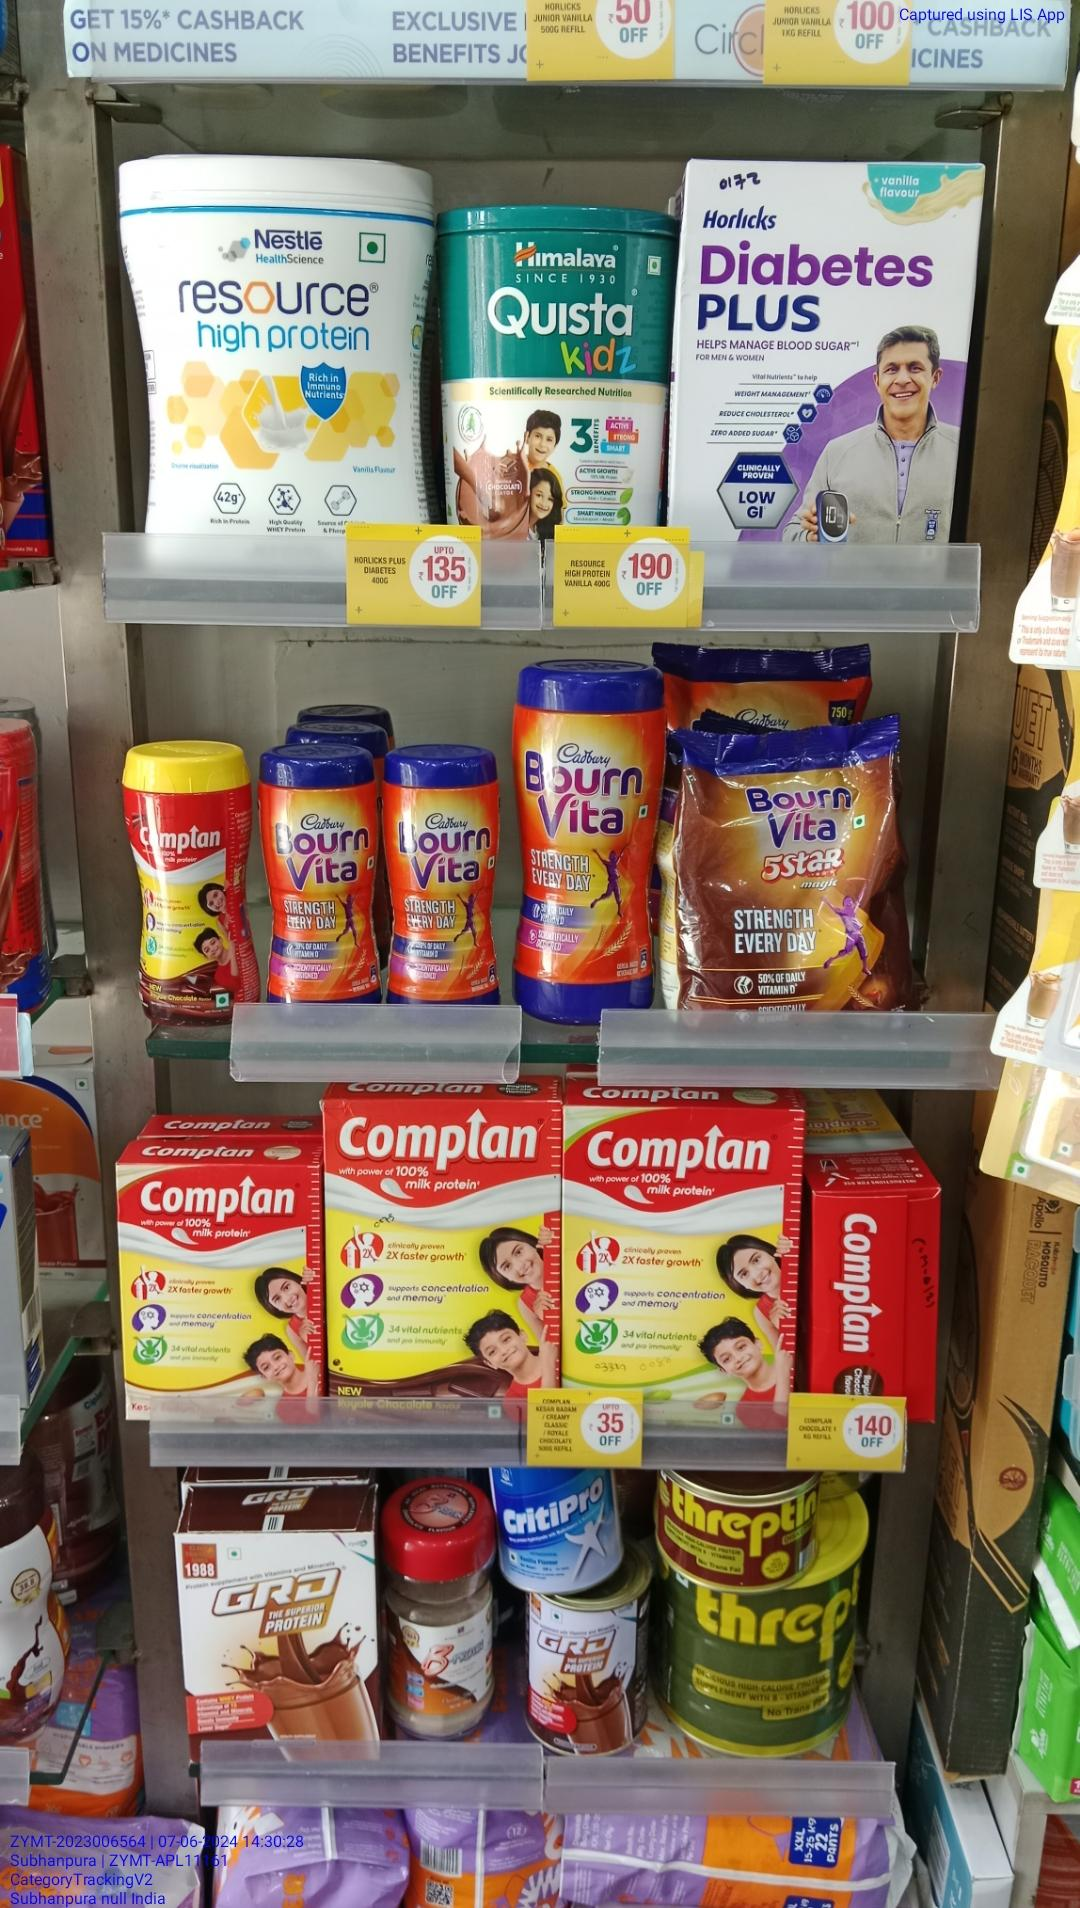BOURN_VITA_1_KG_JAR: (514, 664, 658, 1005)
BOURN_VITA_500_G_JAR: (383, 752, 502, 1002), (261, 751, 374, 1001)
BOURN_VITA_FIVE_STAR_MAGIC_500_G_POUCH: (683, 733, 919, 1017)
COMPLAN_CHOCOLATE_500_GMS_JAR: (125, 746, 253, 1005)
COMPLAN_CHOCOLATE_500_GMS_PACK: (328, 1097, 557, 1393)
COMPLAN_KESAR_BADAM_500_GMS_PACK: (118, 1165, 317, 1396)
COMPLAN_PISTA_BADAM_500_GMS_PACK: (562, 1101, 788, 1403)
